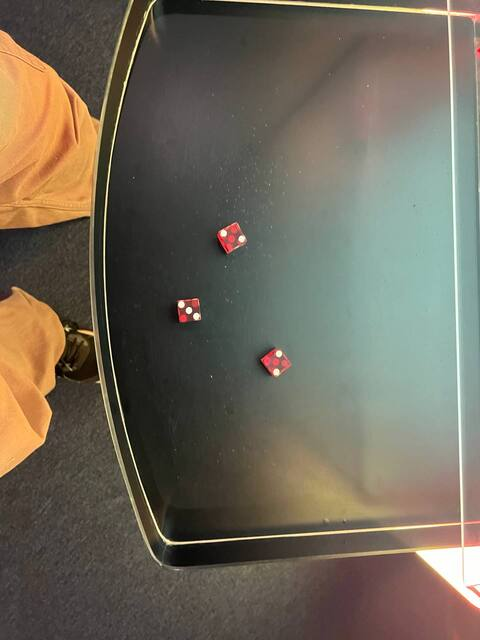three: (174, 296, 205, 325)
two: (257, 346, 294, 381), (215, 220, 250, 253)
